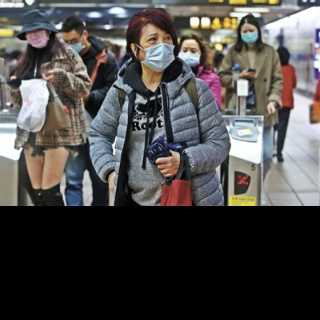with_mask: (140, 30, 177, 73), (24, 27, 50, 48), (177, 45, 201, 67), (61, 37, 85, 54), (240, 25, 260, 45)
